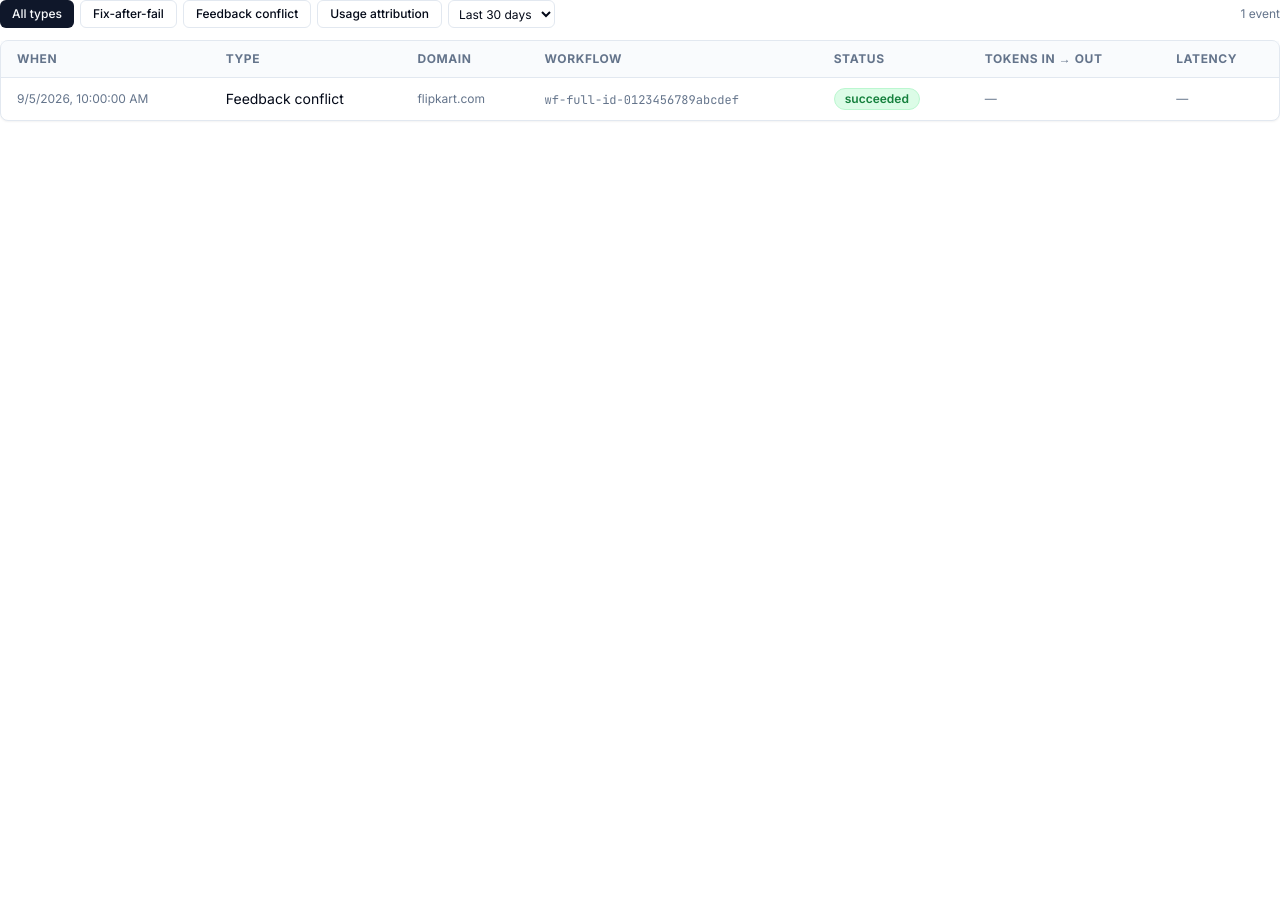
Test: TriggerDrawer — opening one event › renders the LLM’s reasoning when there is any
Click the text "Feedback conflict" at point(306, 99), box x1=210 y1=78 x2=401 y2=120
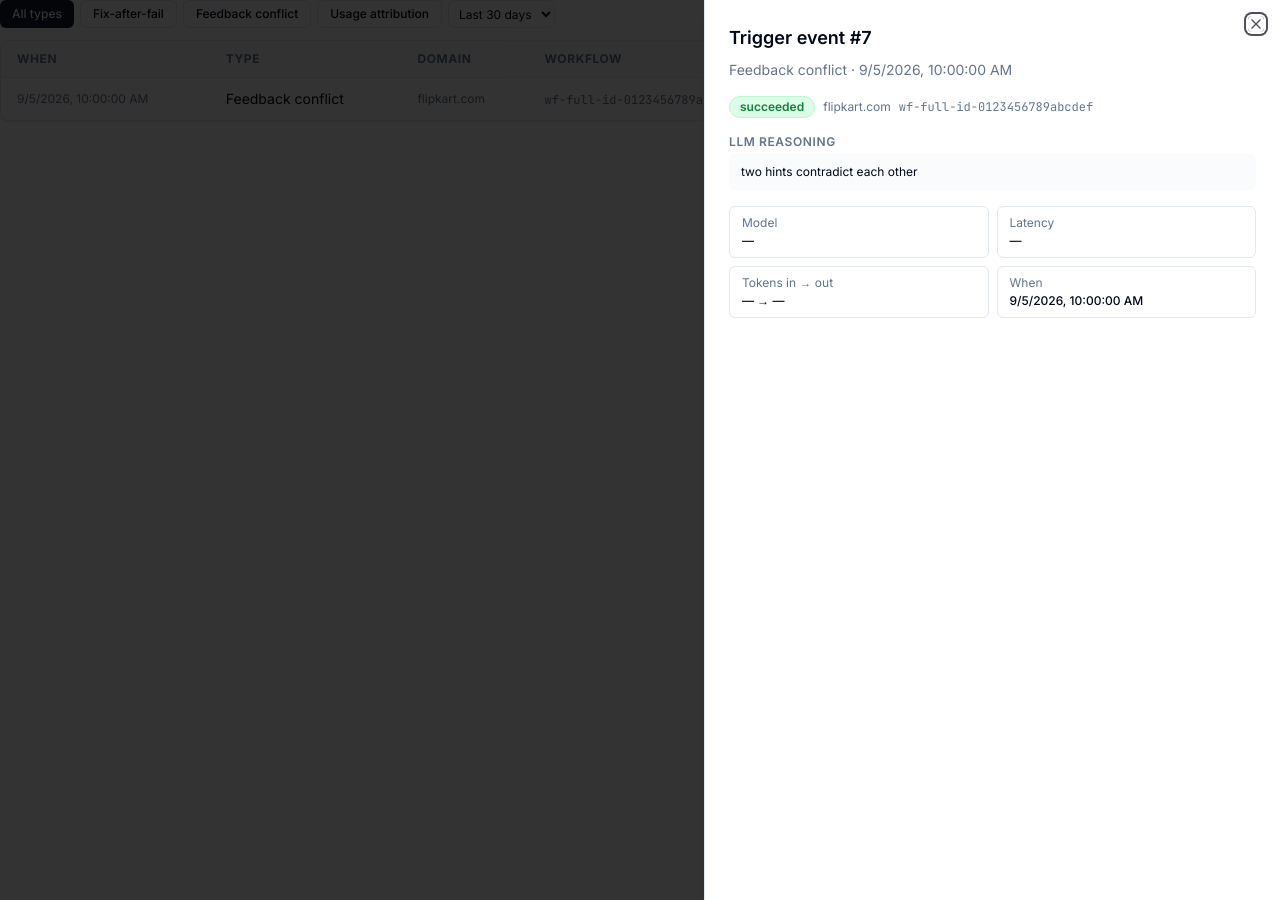
Now the heading "LLM reasoning" is shown, box x1=729 y1=134 x2=836 y2=149
Now the text "two hints contradict each other" is shown, box x1=729 y1=154 x2=1256 y2=190
